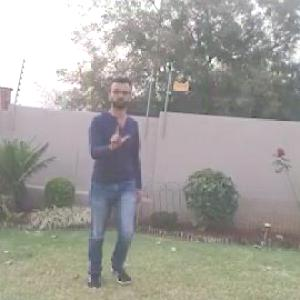land_hand: (101, 119, 133, 151)
